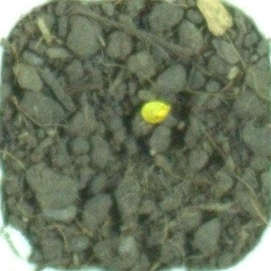pepper seed: (54, 39, 227, 164)
